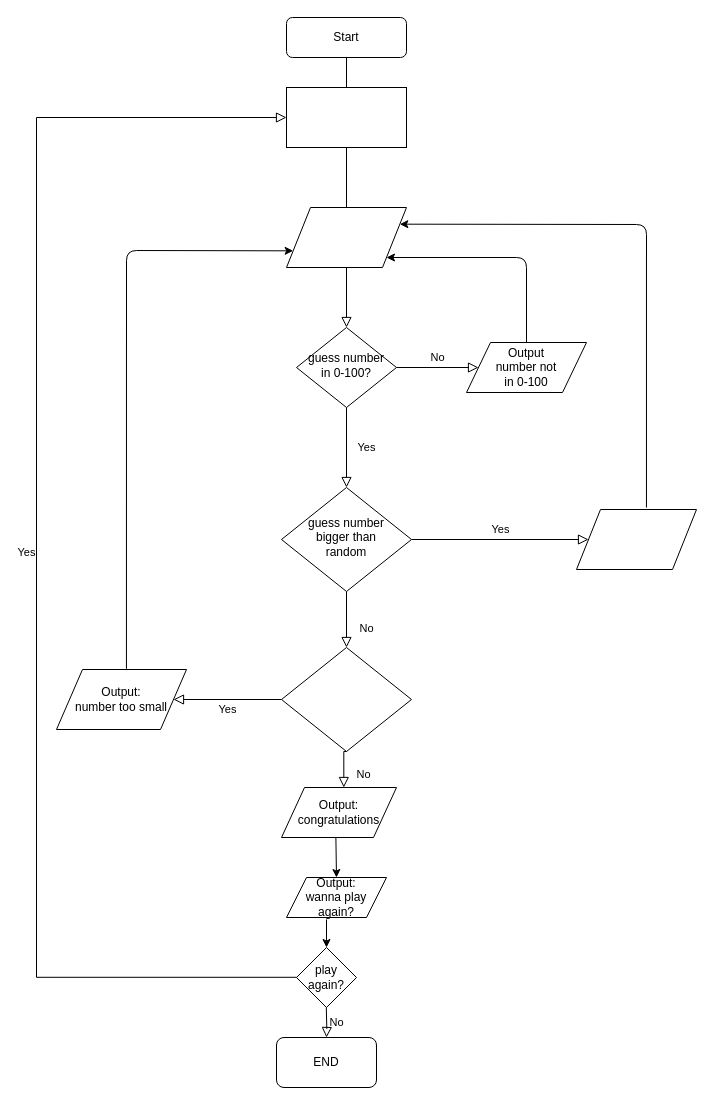
This 714x1105 diagram has some shape labels left out. Here are the shapes that lost their labels. From the top down, the centre of each, then its label:
At (346,117): "create random number from 0 to 100".
At (346,237): "input guess number from 0-100".
At (636,539): "Output: number too big".
At (346,699): "guess number smaller than random".
